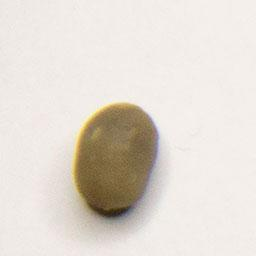peaberry: (71, 98, 162, 217)
